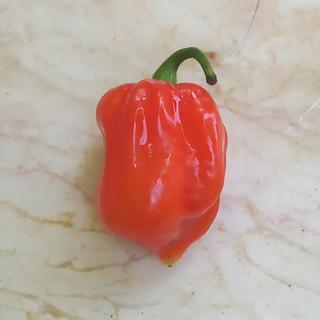Grade-A: (91, 77, 230, 273)
